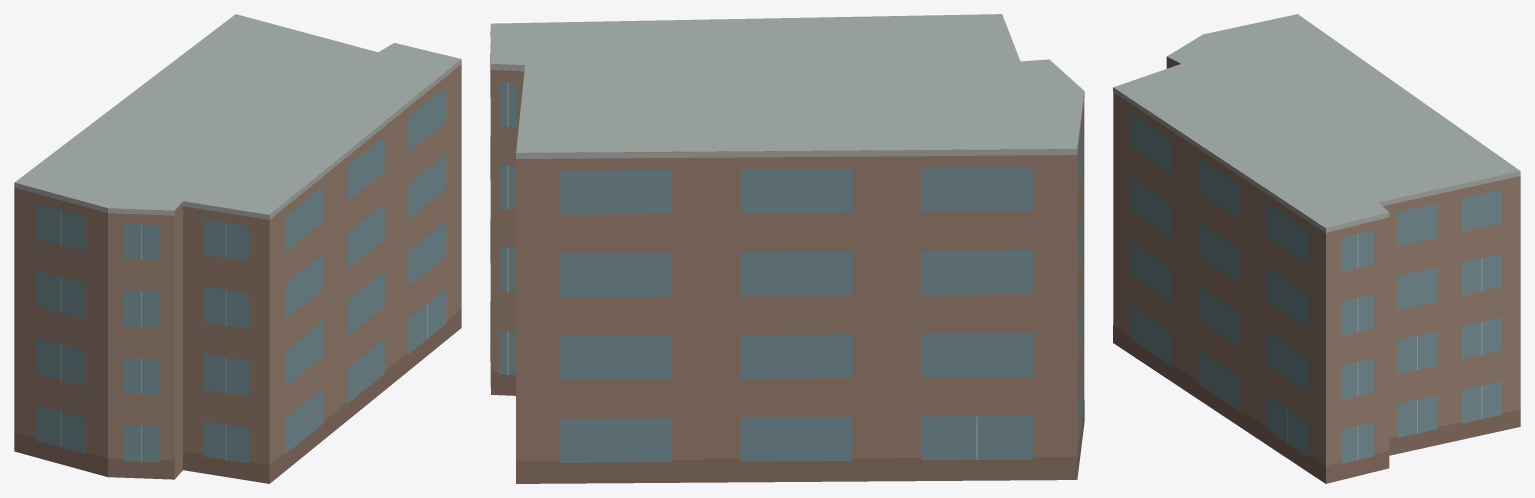
File: survey-upis-32688905.glb
3 renders of one model, left to right at view 1: azimuth 30°, elevation 25°; view 2: azimuth 150°, elevation 25°; view 3: azimuth 270°, elevation 25°, orthographic. The views are drawn at different scales.
Visible parts, largest first — view 1: survey-upis-32688905.tmp; view 2: survey-upis-32688905.tmp; view 3: survey-upis-32688905.tmp.
Part boxes in pixels (<box>): survey-upis-32688905.tmp: <box>14,14,461,483</box>; survey-upis-32688905.tmp: <box>490,14,1084,483</box>; survey-upis-32688905.tmp: <box>1113,14,1520,483</box>.
Bounding box in the file's own units: 23.52 × 13.08 × 18.91.
